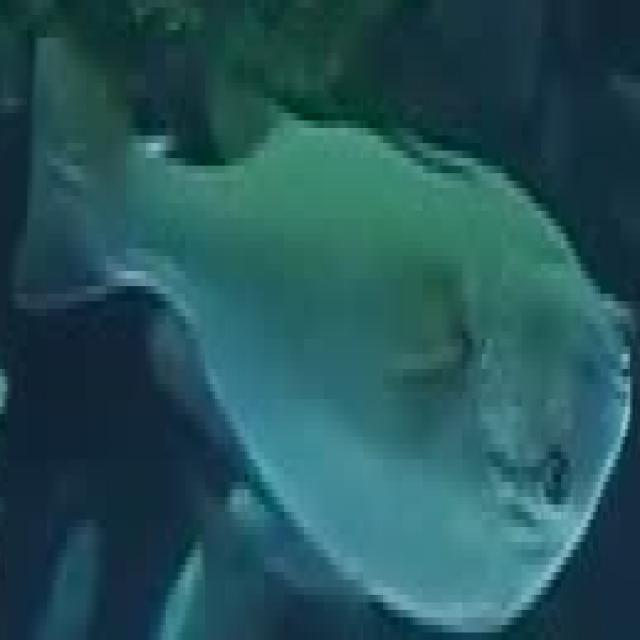fish: (2, 0, 639, 633)
